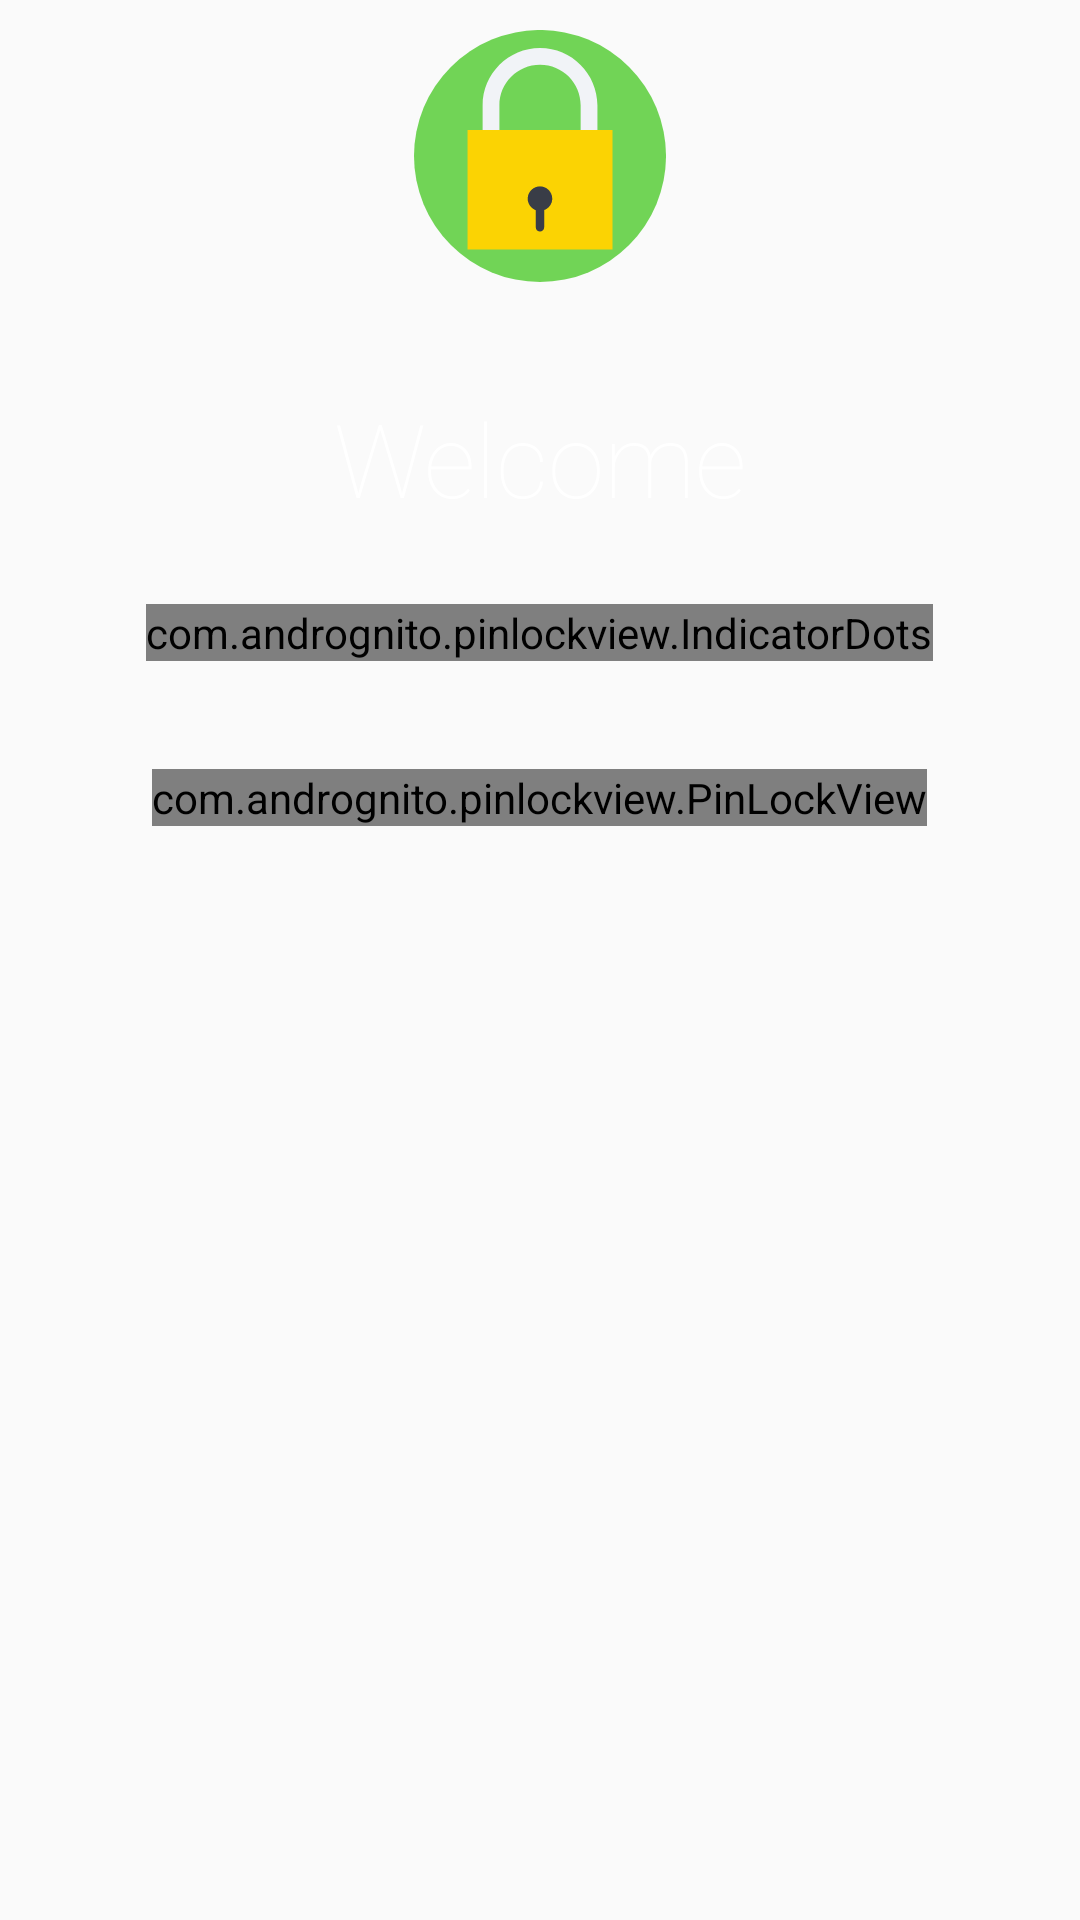

Screen size 1080 x 1920. Icon name, then its center in pixels as [x,y]:
lock: [540,156]
